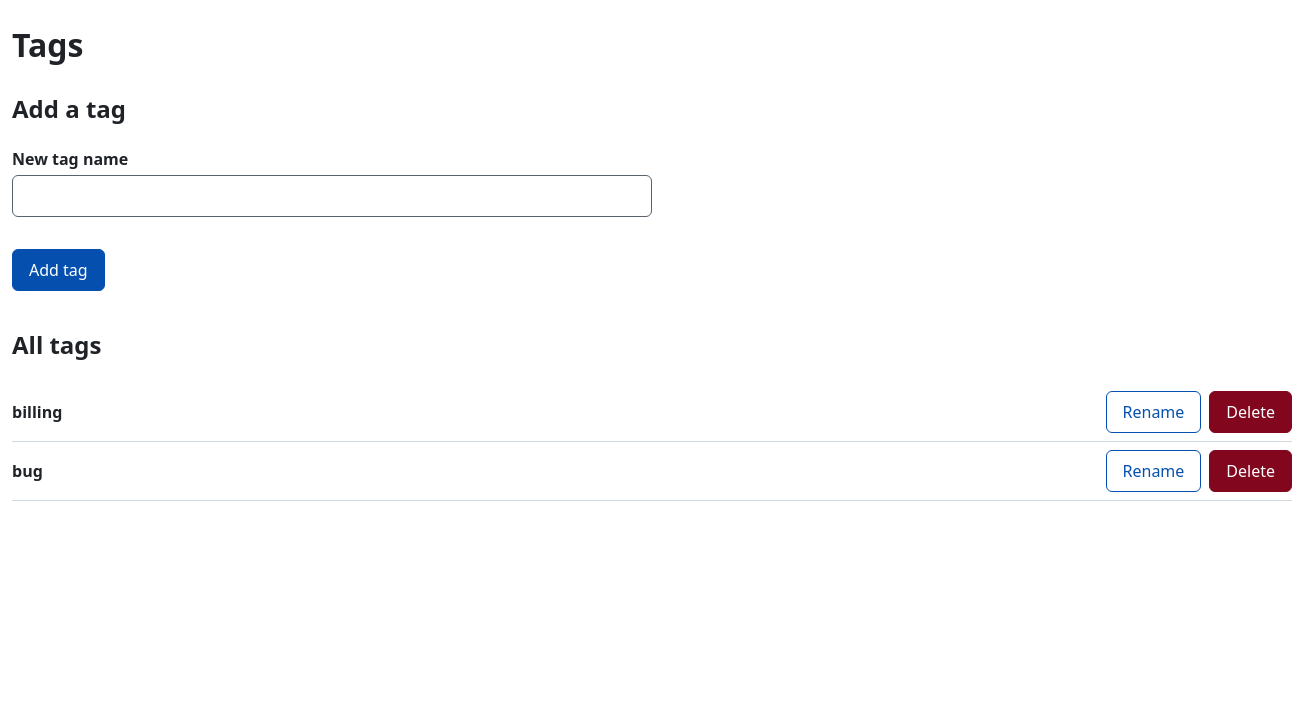
Test: TagsPage › renames a tag
Expected: the text "billing" is shown, [12,401,62,423]
Click the button with aria-label "Rename billing" at (1153, 412), box [1106,391,1201,433]
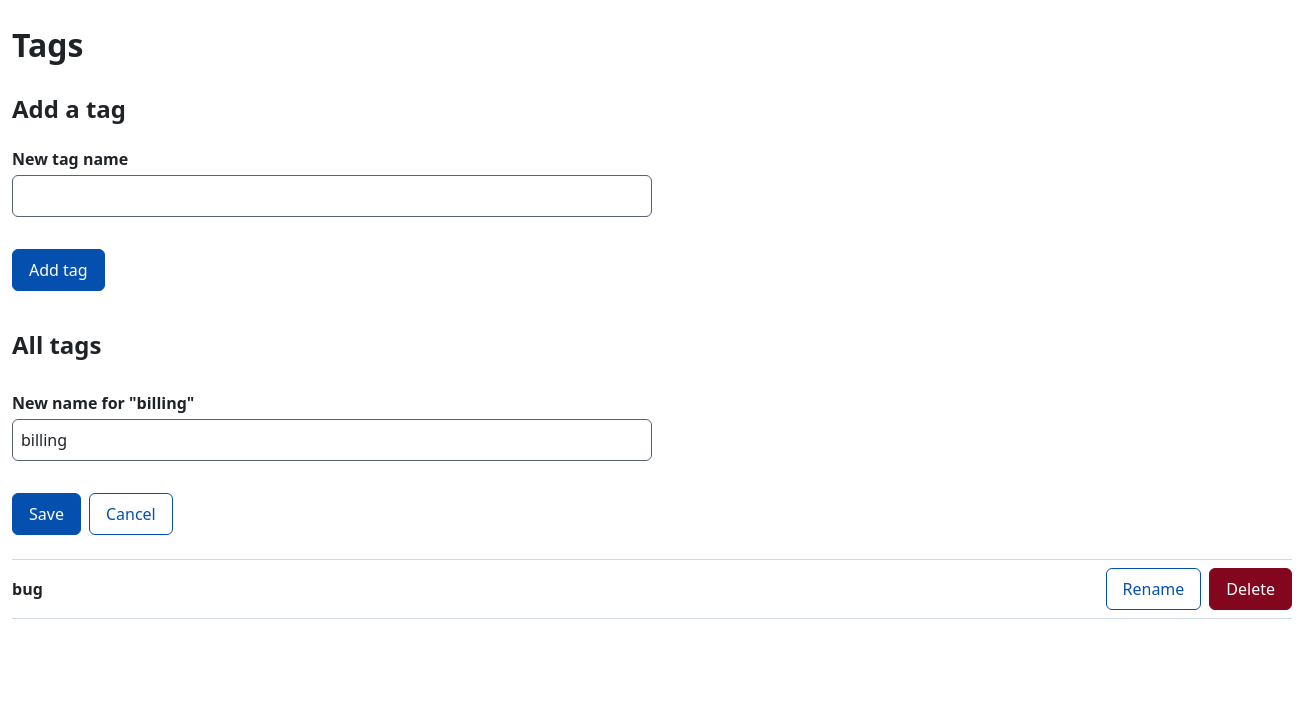
Replace the text in the field labelled "New name for \"billing\"" with "invoices" at (332, 440), box [12,419,652,461]
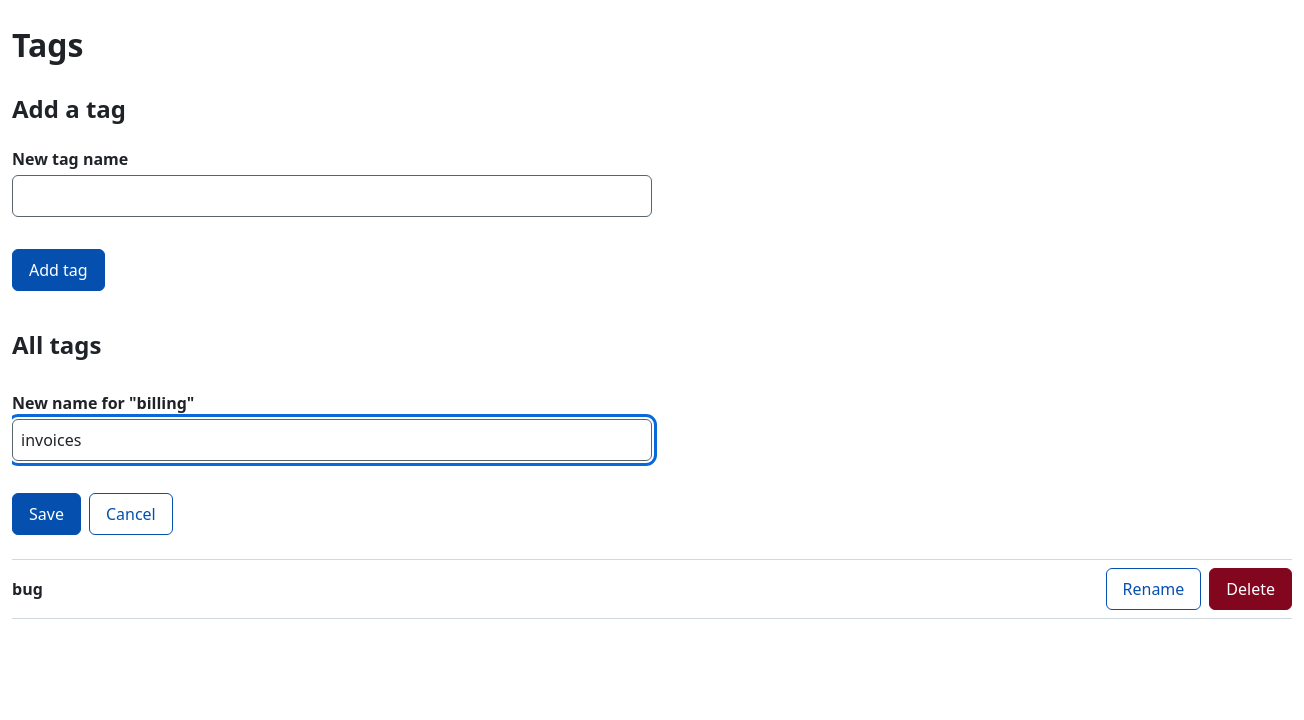
Click the button "Save" at (46, 514), box [12,493,81,535]
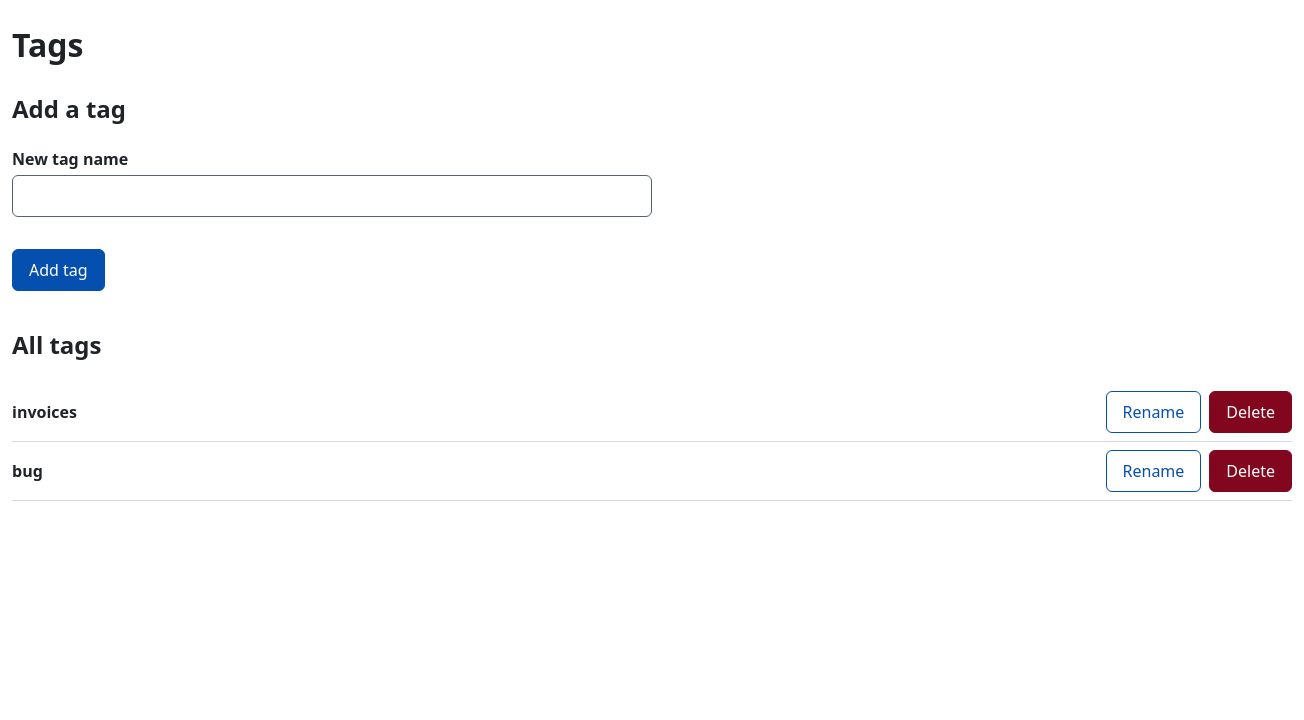
Now the text "invoices" is shown, box [12,401,77,423]
Now the label labelled "New name for \"billing\"" is gone
